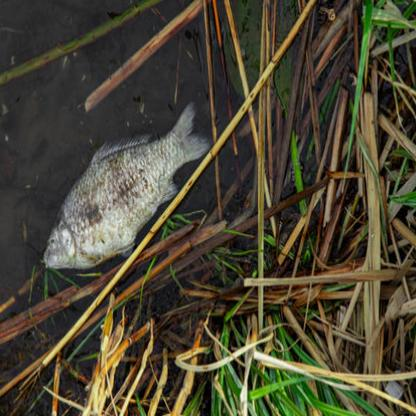deceased fish: (33, 96, 212, 272)
